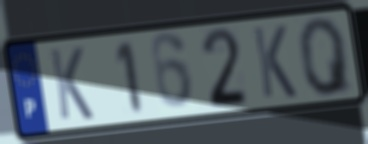1: (113, 39, 147, 115)
2: (199, 26, 250, 110)
6: (151, 29, 196, 118)
K: (250, 23, 300, 101), (47, 45, 96, 123)
Q: (296, 15, 356, 100)
